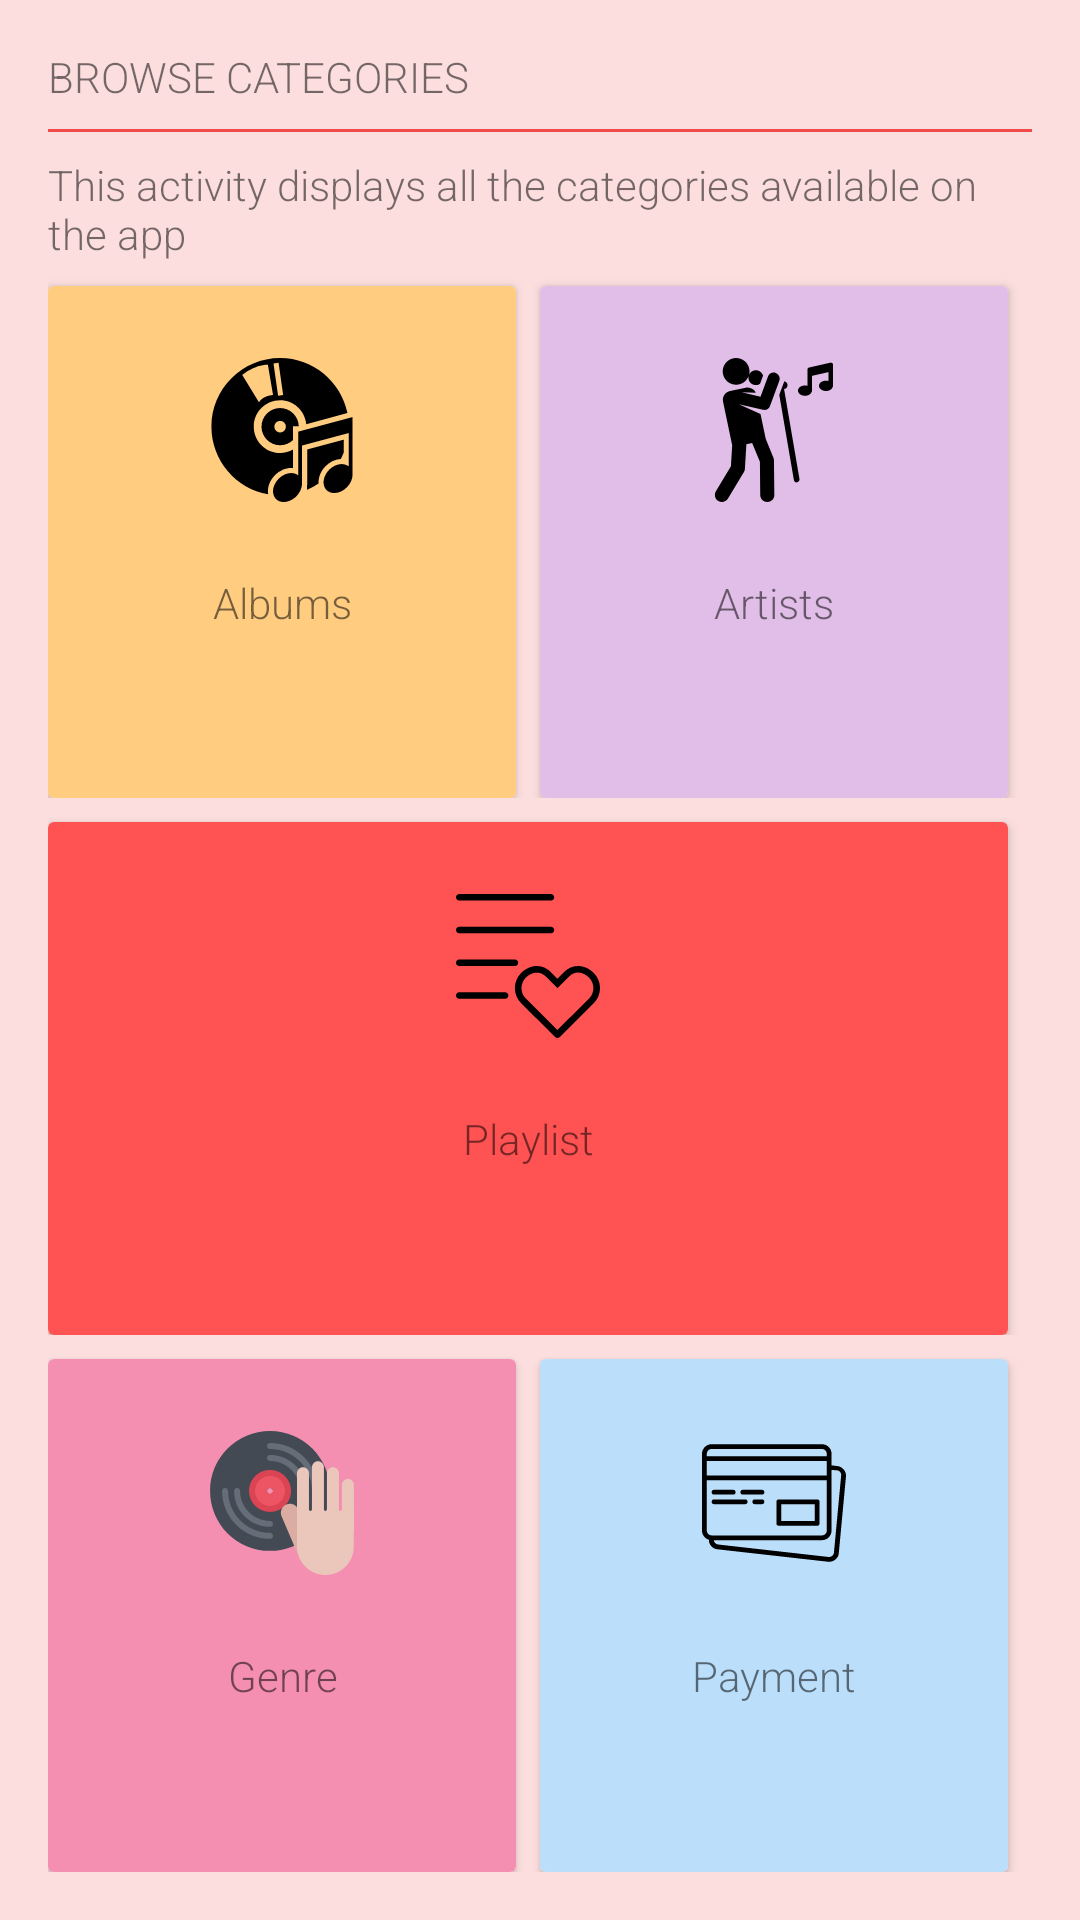

Icons on this 1080px×1920px Android screen, each with its box as (left=x1, top=y1, right=x2, bottom=y2):
credit card: (left=702, top=1444, right=846, bottom=1562)
music album: (left=211, top=358, right=353, bottom=502)
singer: (left=715, top=358, right=833, bottom=502)
